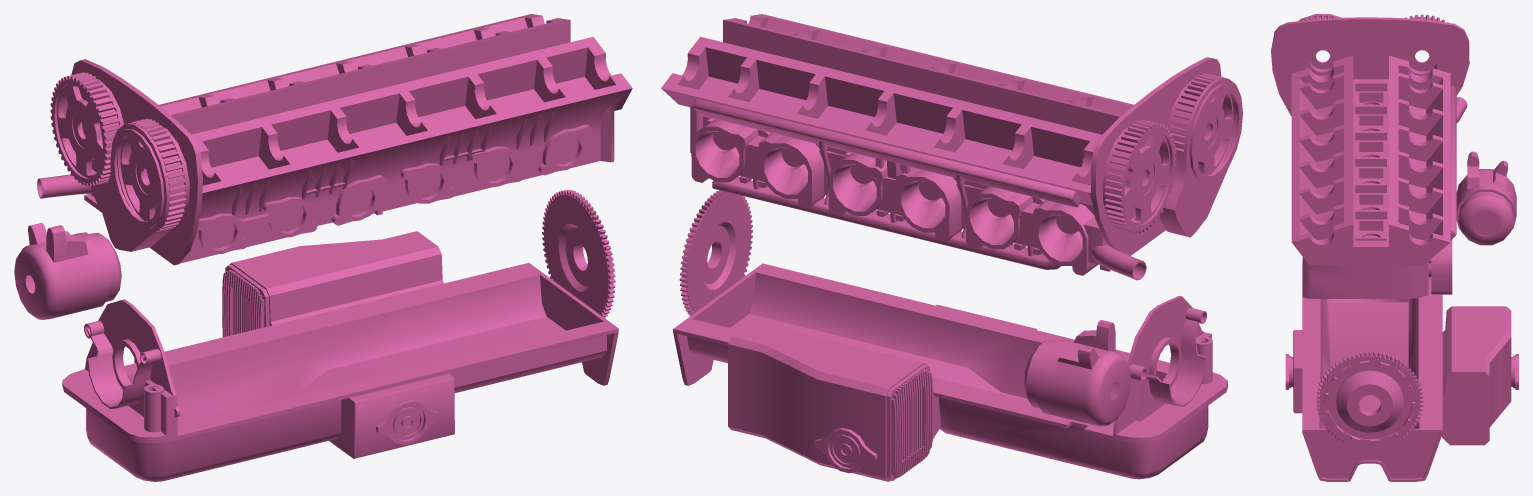
3 renders of one model, left to right at view 1: azimuth 30°, elevation 25°; view 2: azimuth 150°, elevation 25°; view 3: azimuth 270°, elevation 25°, orthographic. The views are drawn at different scales.
Parts seen in each view (by area): view 1: rb26_stock_reference.001_rb26_stock_reference.001_rb26_stock_re; view 2: rb26_stock_reference.001_rb26_stock_reference.001_rb26_stock_re; view 3: rb26_stock_reference.001_rb26_stock_reference.001_rb26_stock_re.
Part boxes in pixels (x1,y1,x2,y2): rb26_stock_reference.001_rb26_stock_reference.001_rb26_stock_re: (14,14,632,481); rb26_stock_reference.001_rb26_stock_reference.001_rb26_stock_re: (661,14,1242,481); rb26_stock_reference.001_rb26_stock_reference.001_rb26_stock_re: (1271,14,1518,481).
Size of the model in its own units: 41.31 by 30.2 by 22.9.
